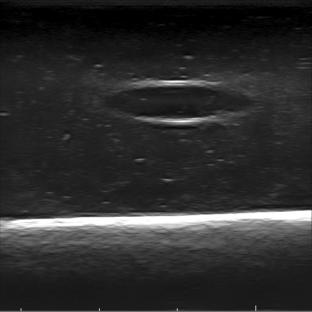vessel: (103, 79, 255, 126)
